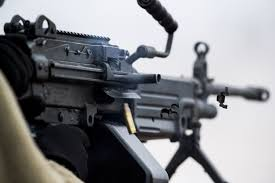gun: (0, 12, 273, 181)
